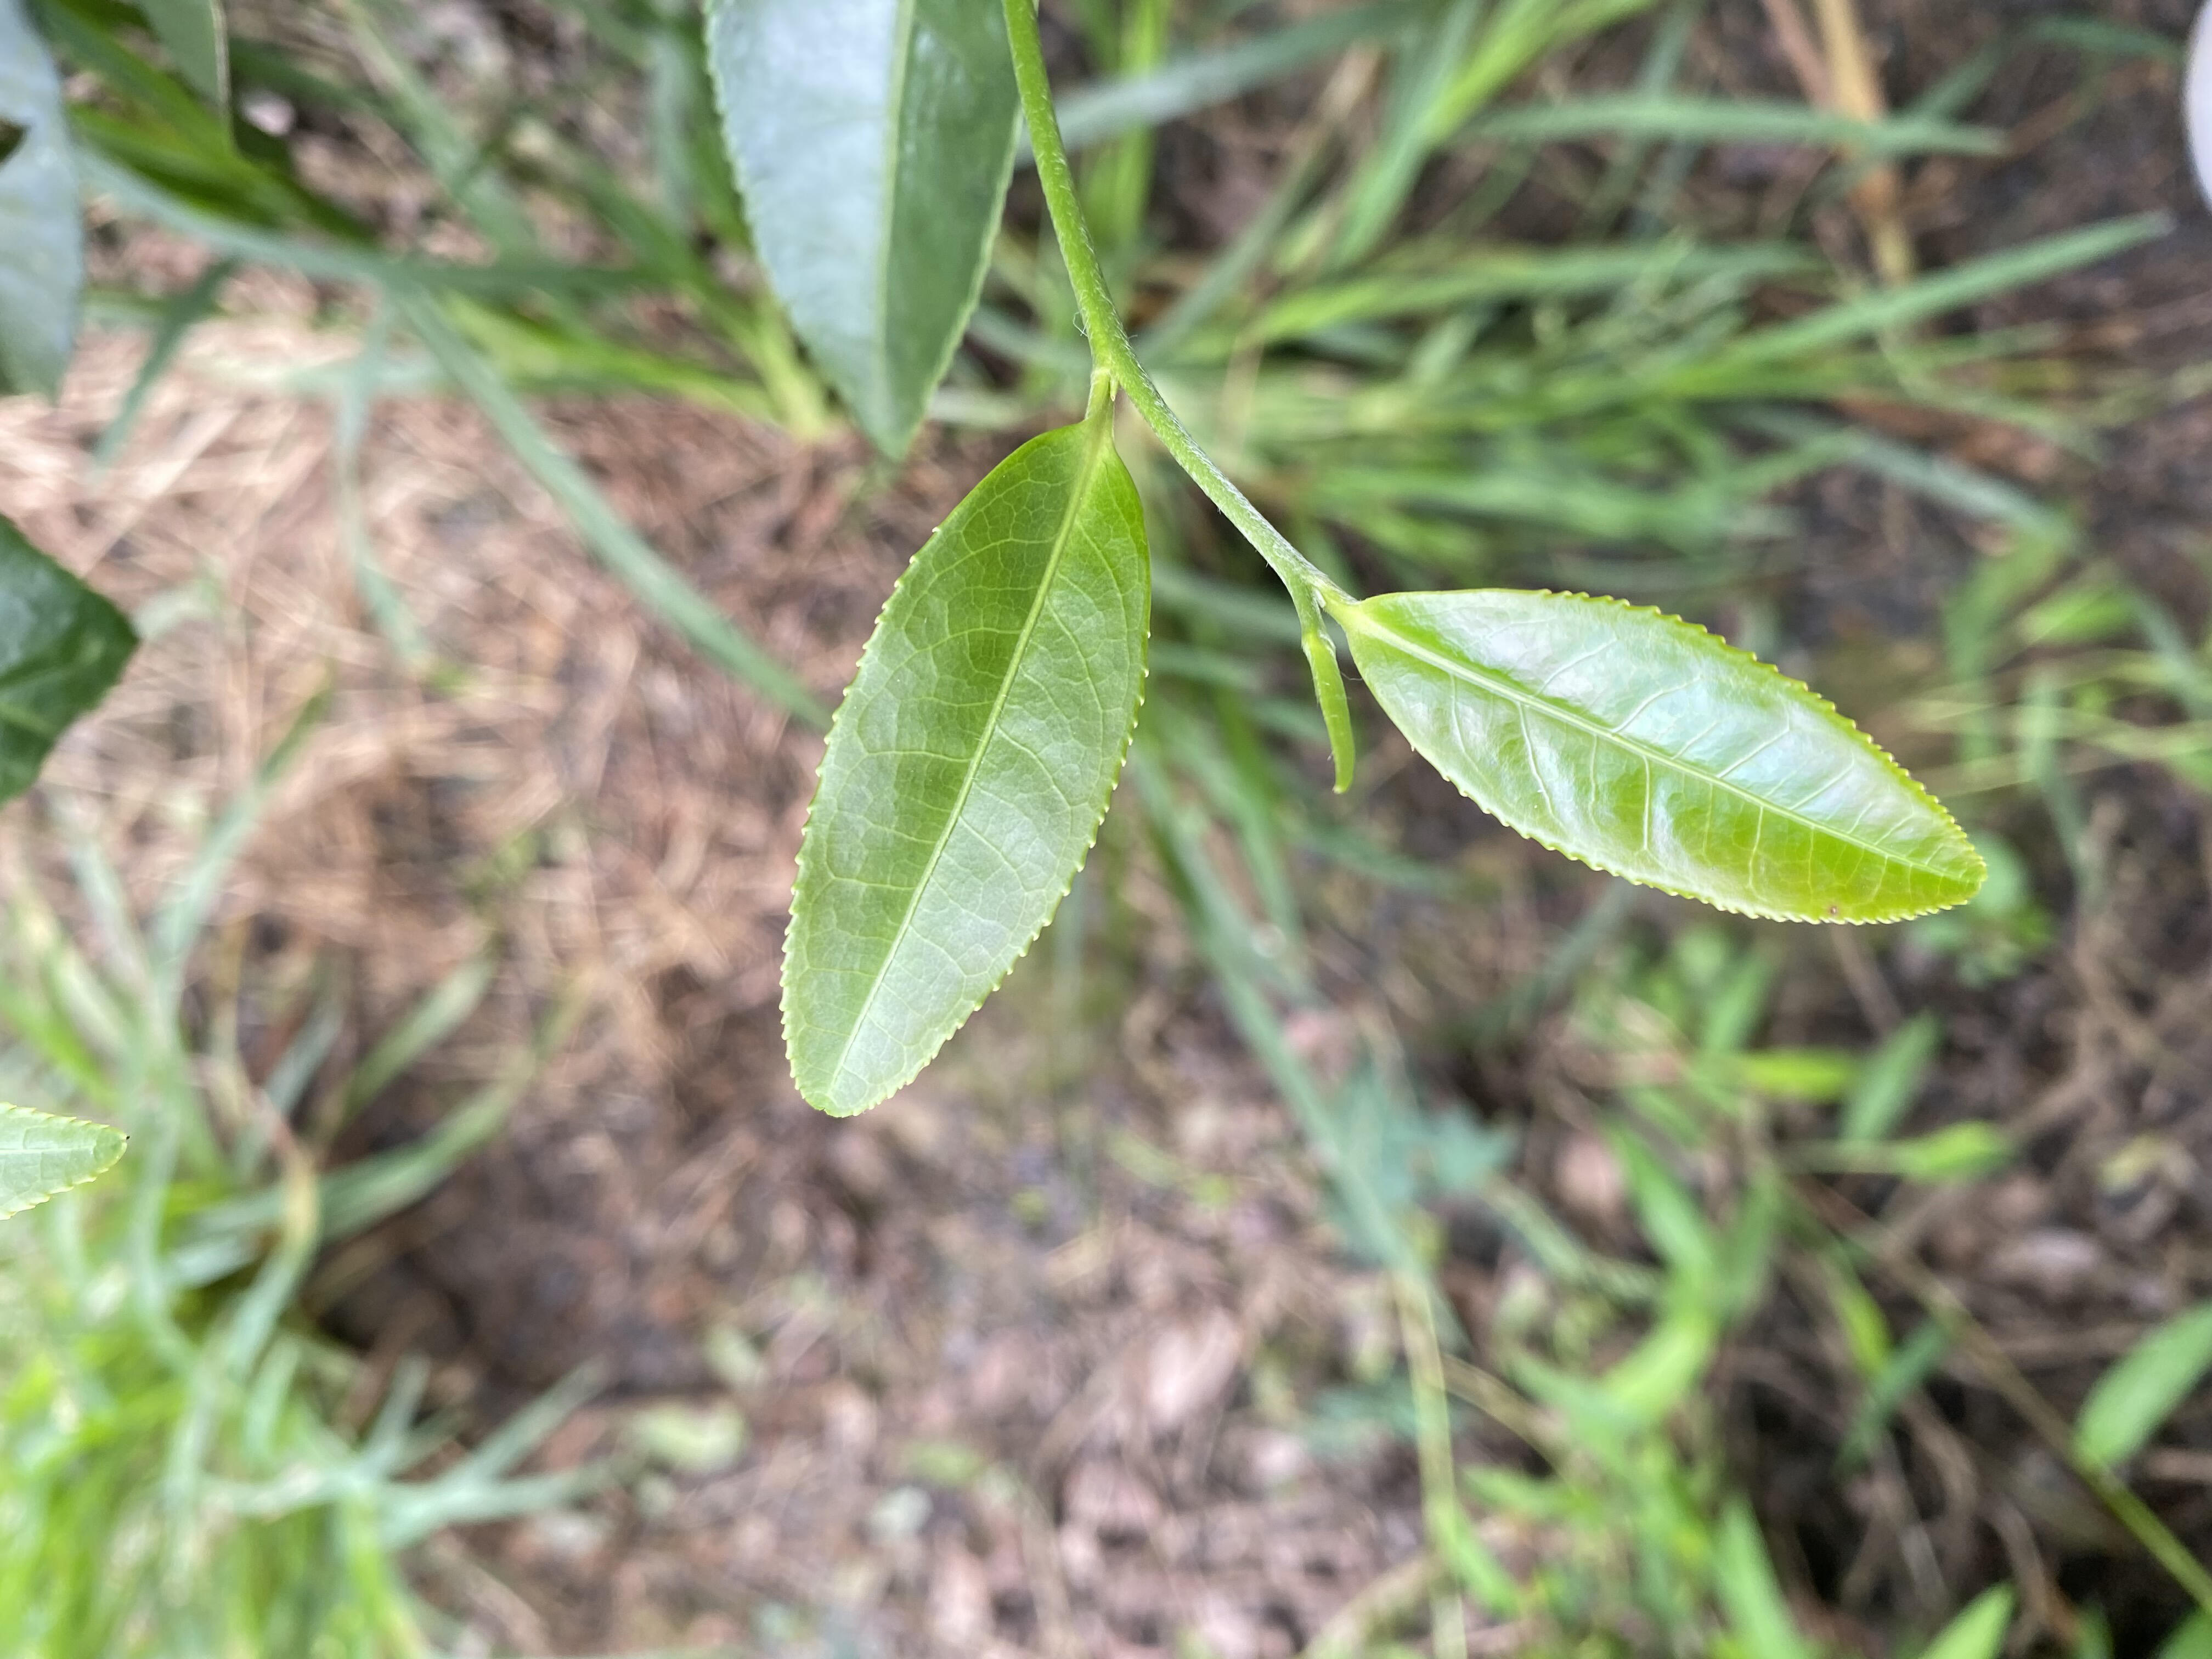healthy: (777, 420, 1158, 1122), (1350, 587, 1987, 929)
